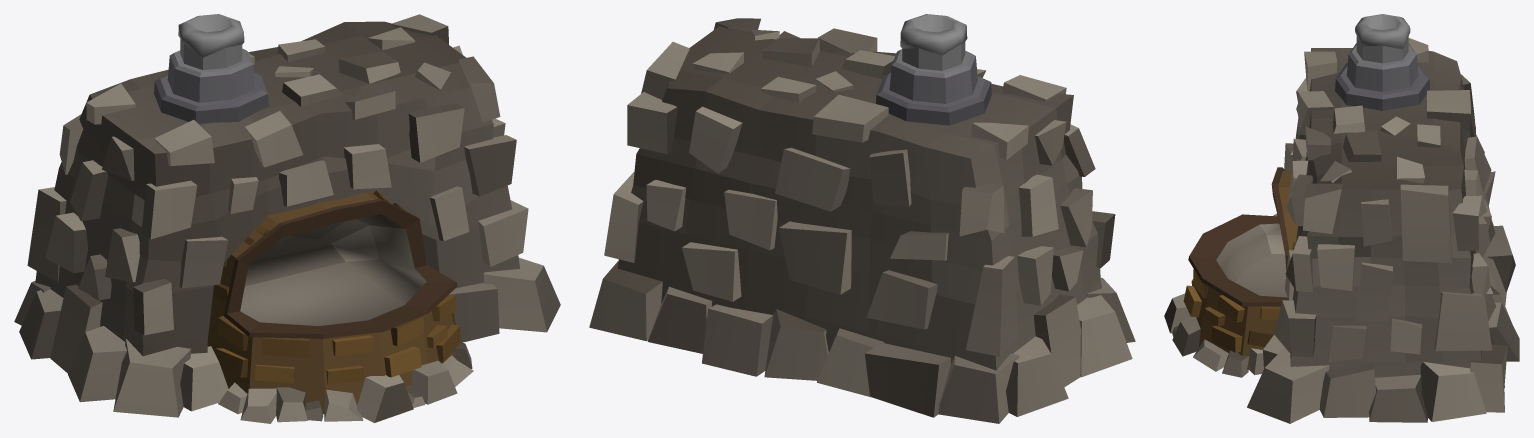
The model's file is Furnace.fbx.
The picture shows the model from 3 angles, left to right: view 1: azimuth 30°, elevation 25°; view 2: azimuth 150°, elevation 25°; view 3: azimuth 270°, elevation 25°; orthographic projection. The views are drawn at different scales.
Parts seen in each view (by area): view 1: Cylinder; view 2: Cylinder; view 3: Cylinder.
Part boxes in pixels (bbox=[...]): Cylinder: bbox=[14, 14, 560, 423]; Cylinder: bbox=[589, 14, 1135, 423]; Cylinder: bbox=[1164, 14, 1519, 423].
Size of the model in its own units: 444 by 294 by 340.
